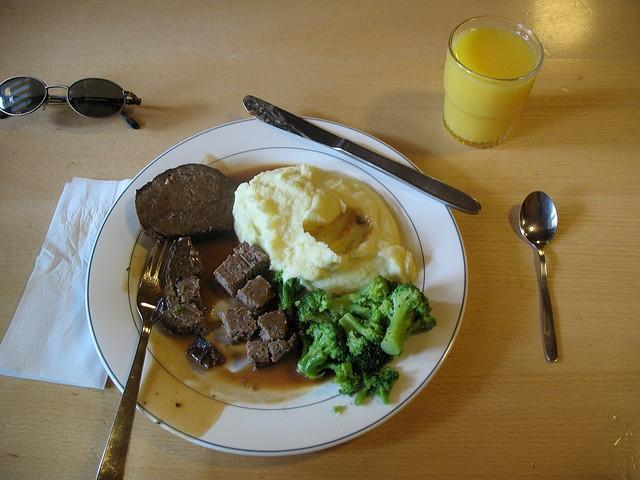broccoli: (378, 282, 438, 356), (337, 313, 395, 379), (298, 320, 354, 386), (270, 269, 306, 318), (354, 275, 398, 303), (364, 370, 400, 404), (299, 288, 332, 324), (359, 304, 384, 336), (332, 406, 346, 414), (174, 306, 182, 312)
